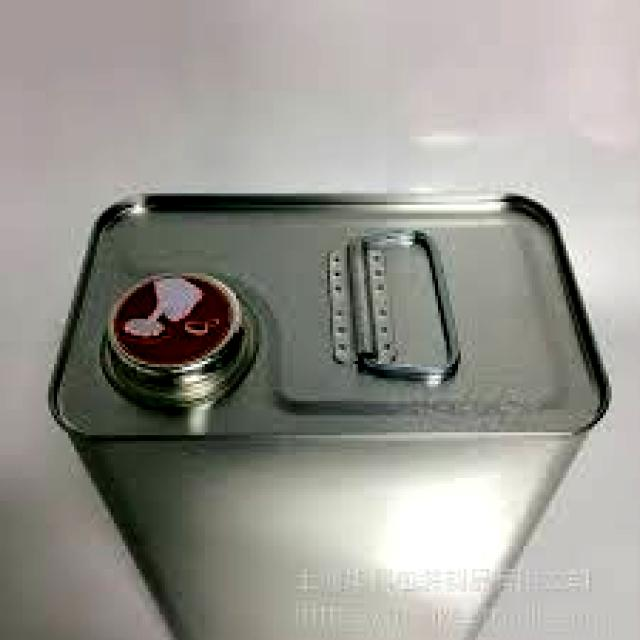Metal: (49, 186, 615, 640)
